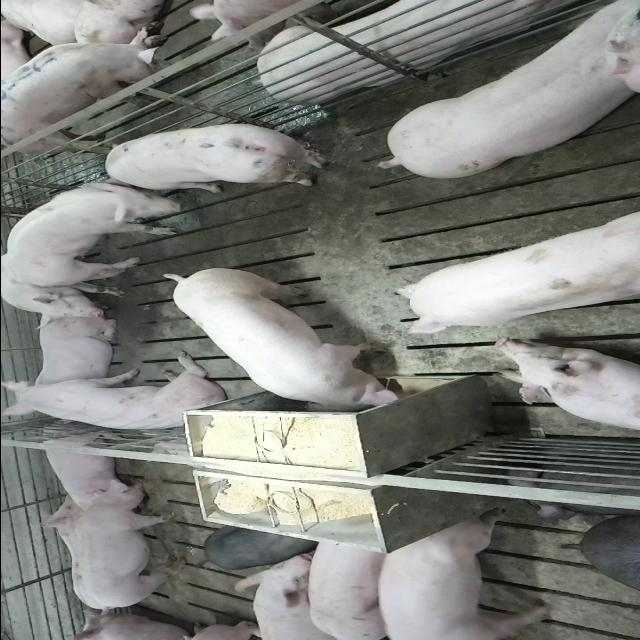Feeding: (161, 271, 407, 421)
Sitting: (4, 356, 233, 436), (2, 252, 132, 322)
Standing: (373, 6, 635, 184), (395, 193, 640, 341), (0, 25, 186, 151), (374, 516, 550, 638), (95, 121, 335, 196), (79, 481, 183, 613), (306, 535, 396, 640)
Sternal_lying: (217, 0, 586, 102), (493, 341, 640, 437), (36, 430, 132, 508), (34, 314, 121, 396)
